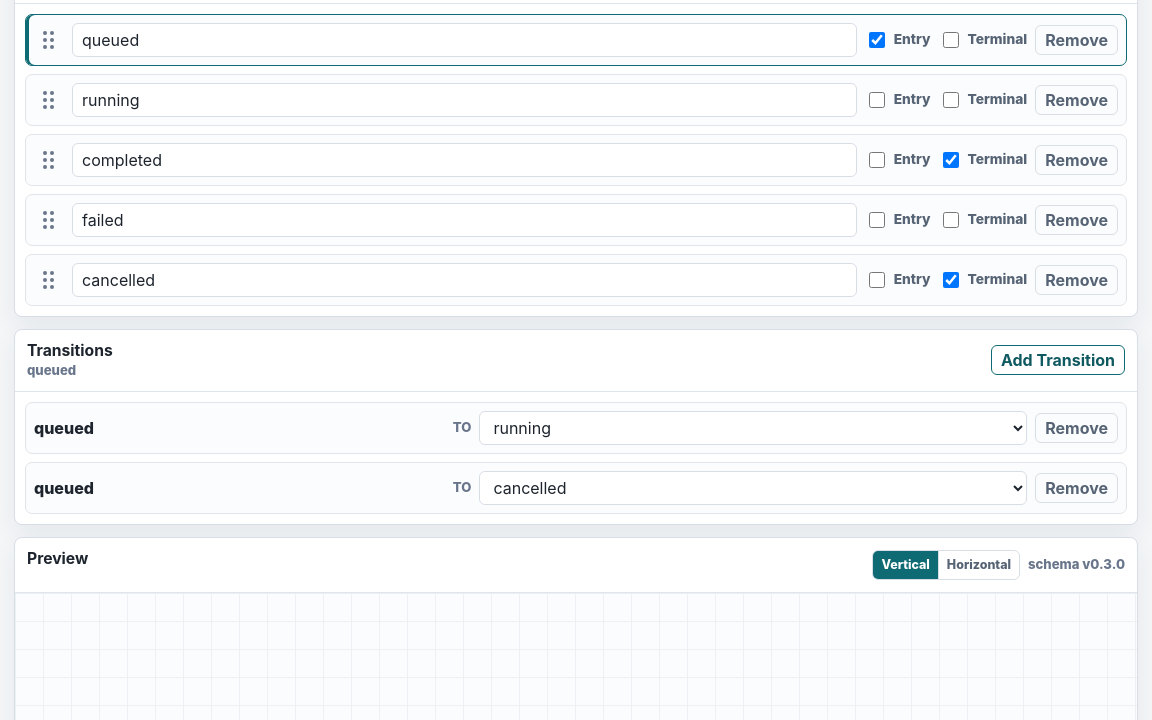
App › creates transition rows with selectable states
The image size is (1152, 720).
(page scrolled)
Click the button "Add Transition" at (1058, 360), box [991,345,1125,375]
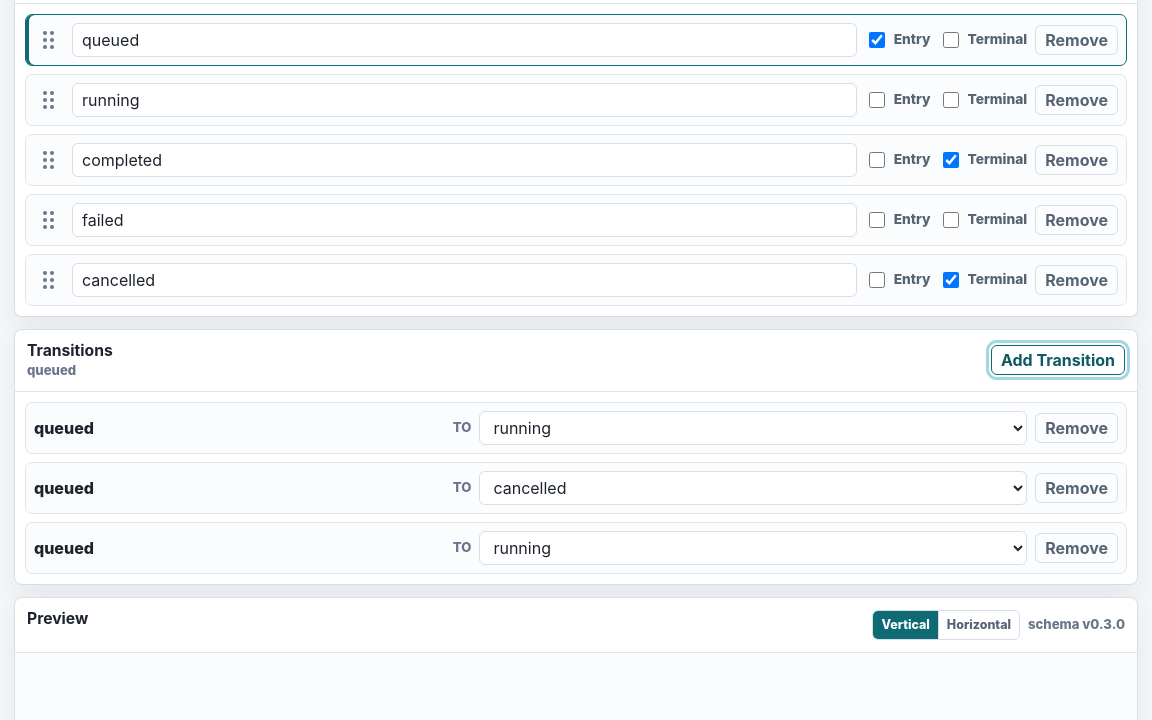
Expected: the dropdown named "Transition 7 target" shows "running", [479,530,1027,564]
